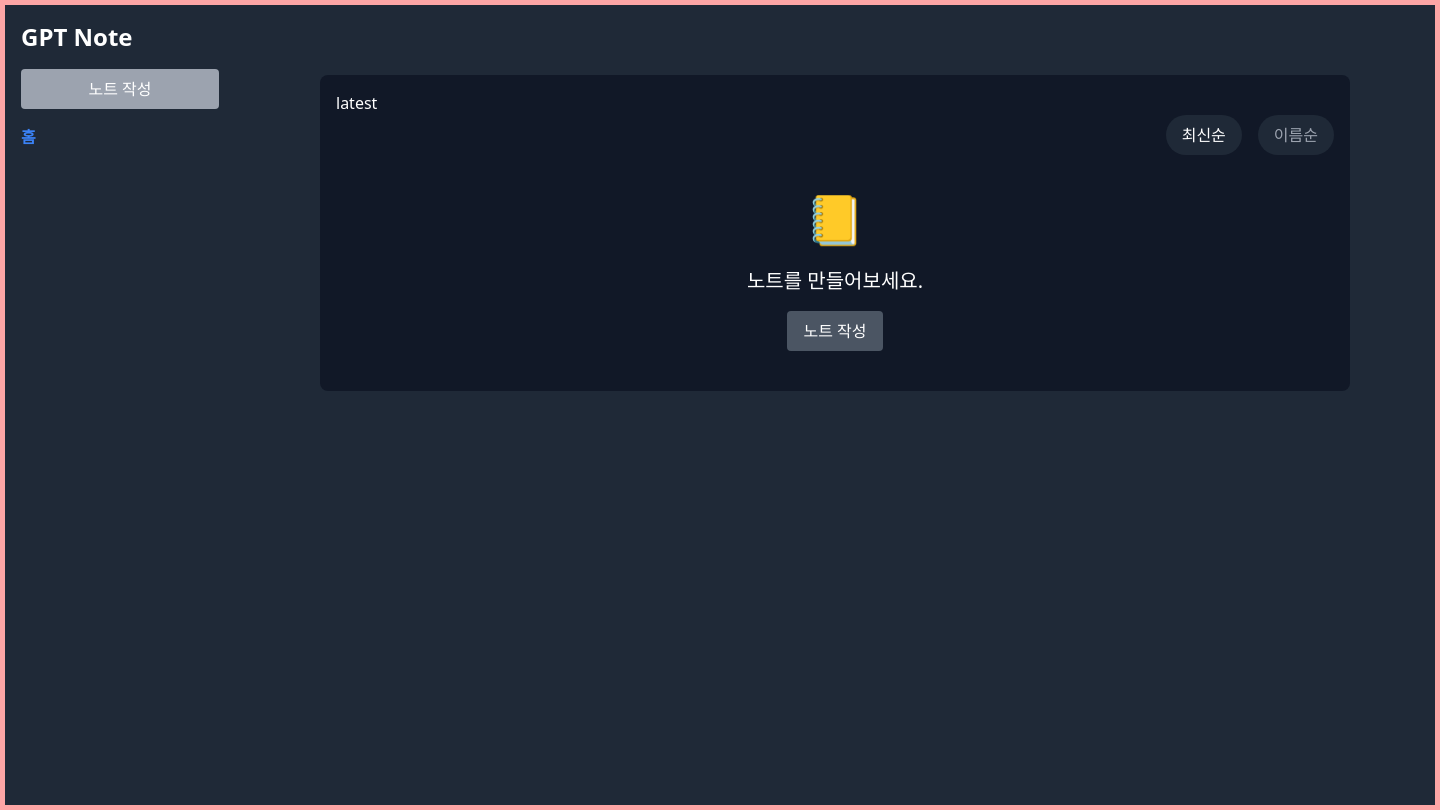
Test: 노트 추가 및 편집 기능 › 요약 기능
What coordinates should you click on to do the following:
click the button "노트 작성" below "GPT Note"
I would click on:
 (120, 89)
Its box is [21,69,219,109].
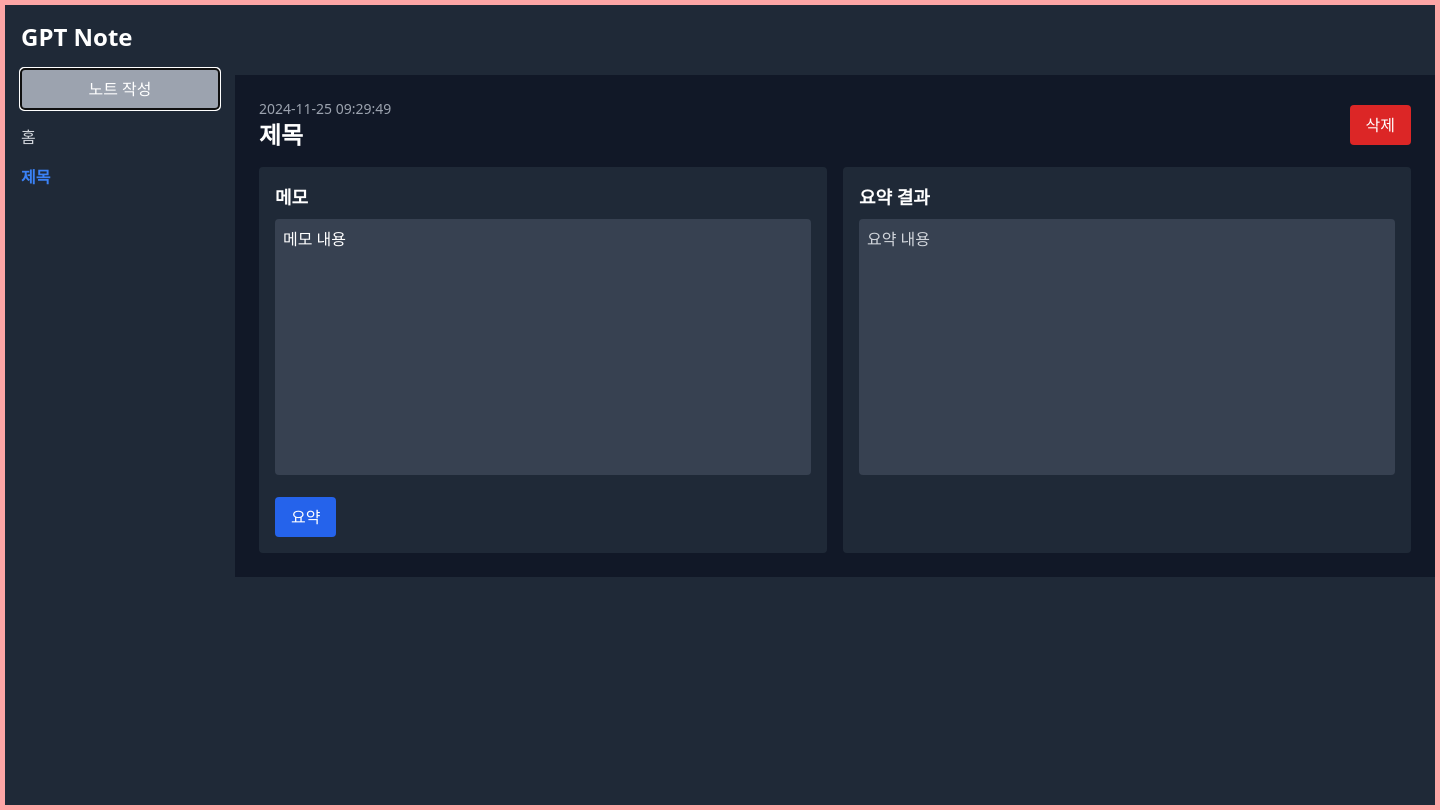
What coordinates should you click on to do the following:
click the button "요약"
I would click on:
 (306, 517)
Its box is [275,497,336,537].
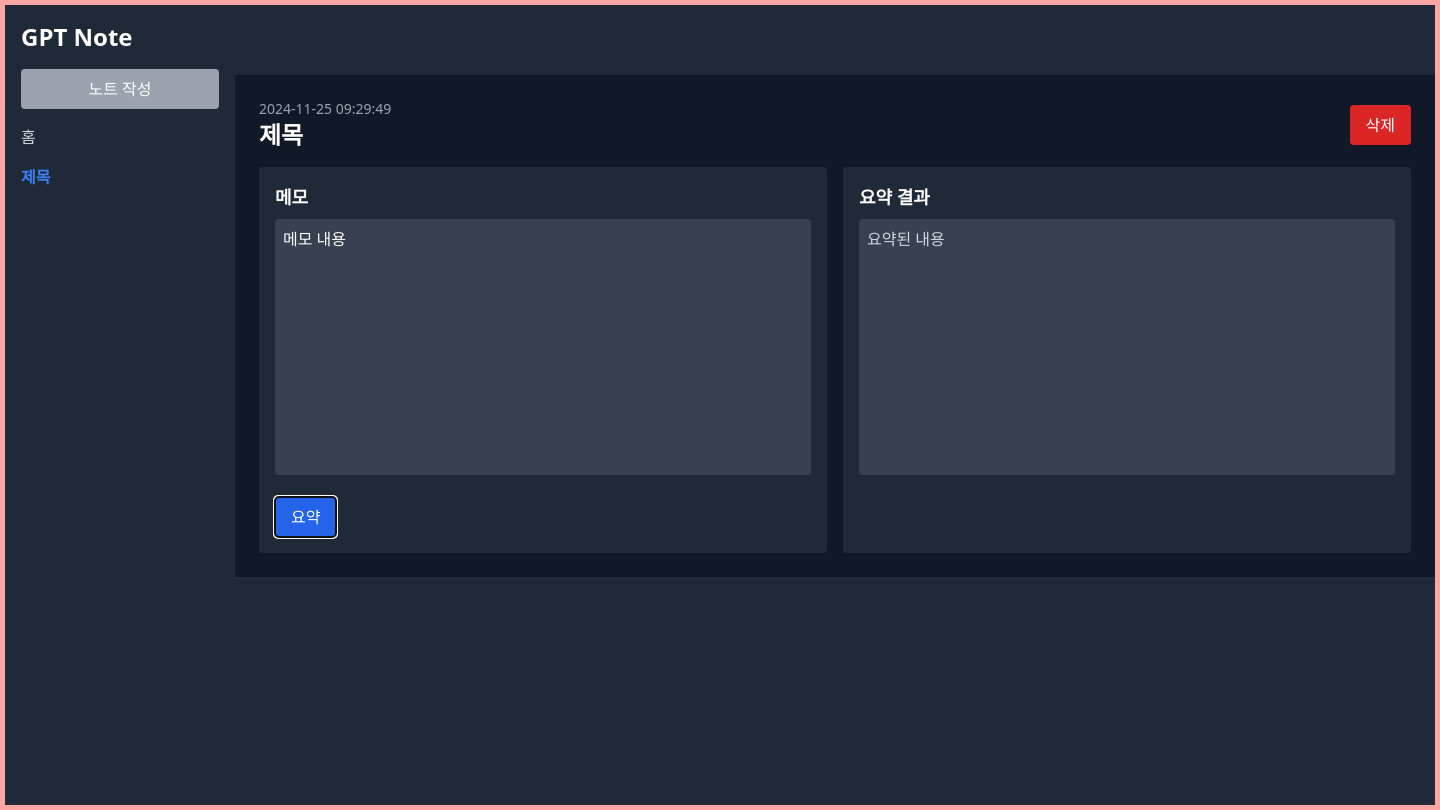
Expected: the text "요약된 내용" is shown, [859,219,1395,475]
